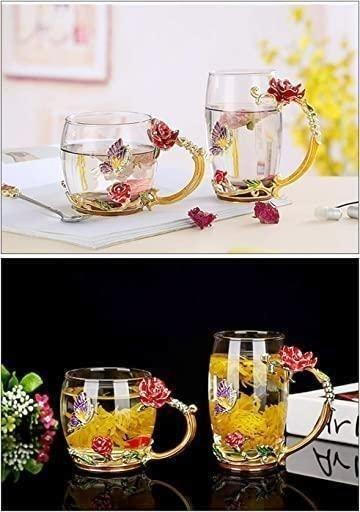glass-mug: (206, 322, 335, 477), (58, 105, 207, 223), (204, 63, 324, 205), (59, 361, 194, 468)
